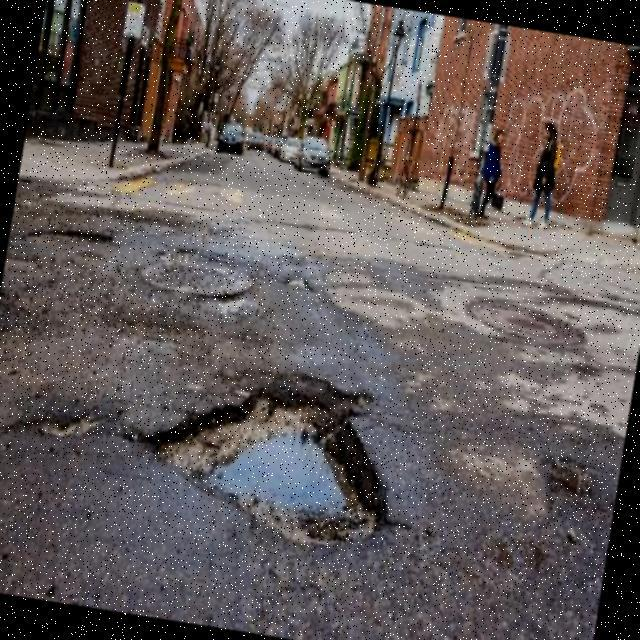Pothole: (147, 372, 384, 548)
